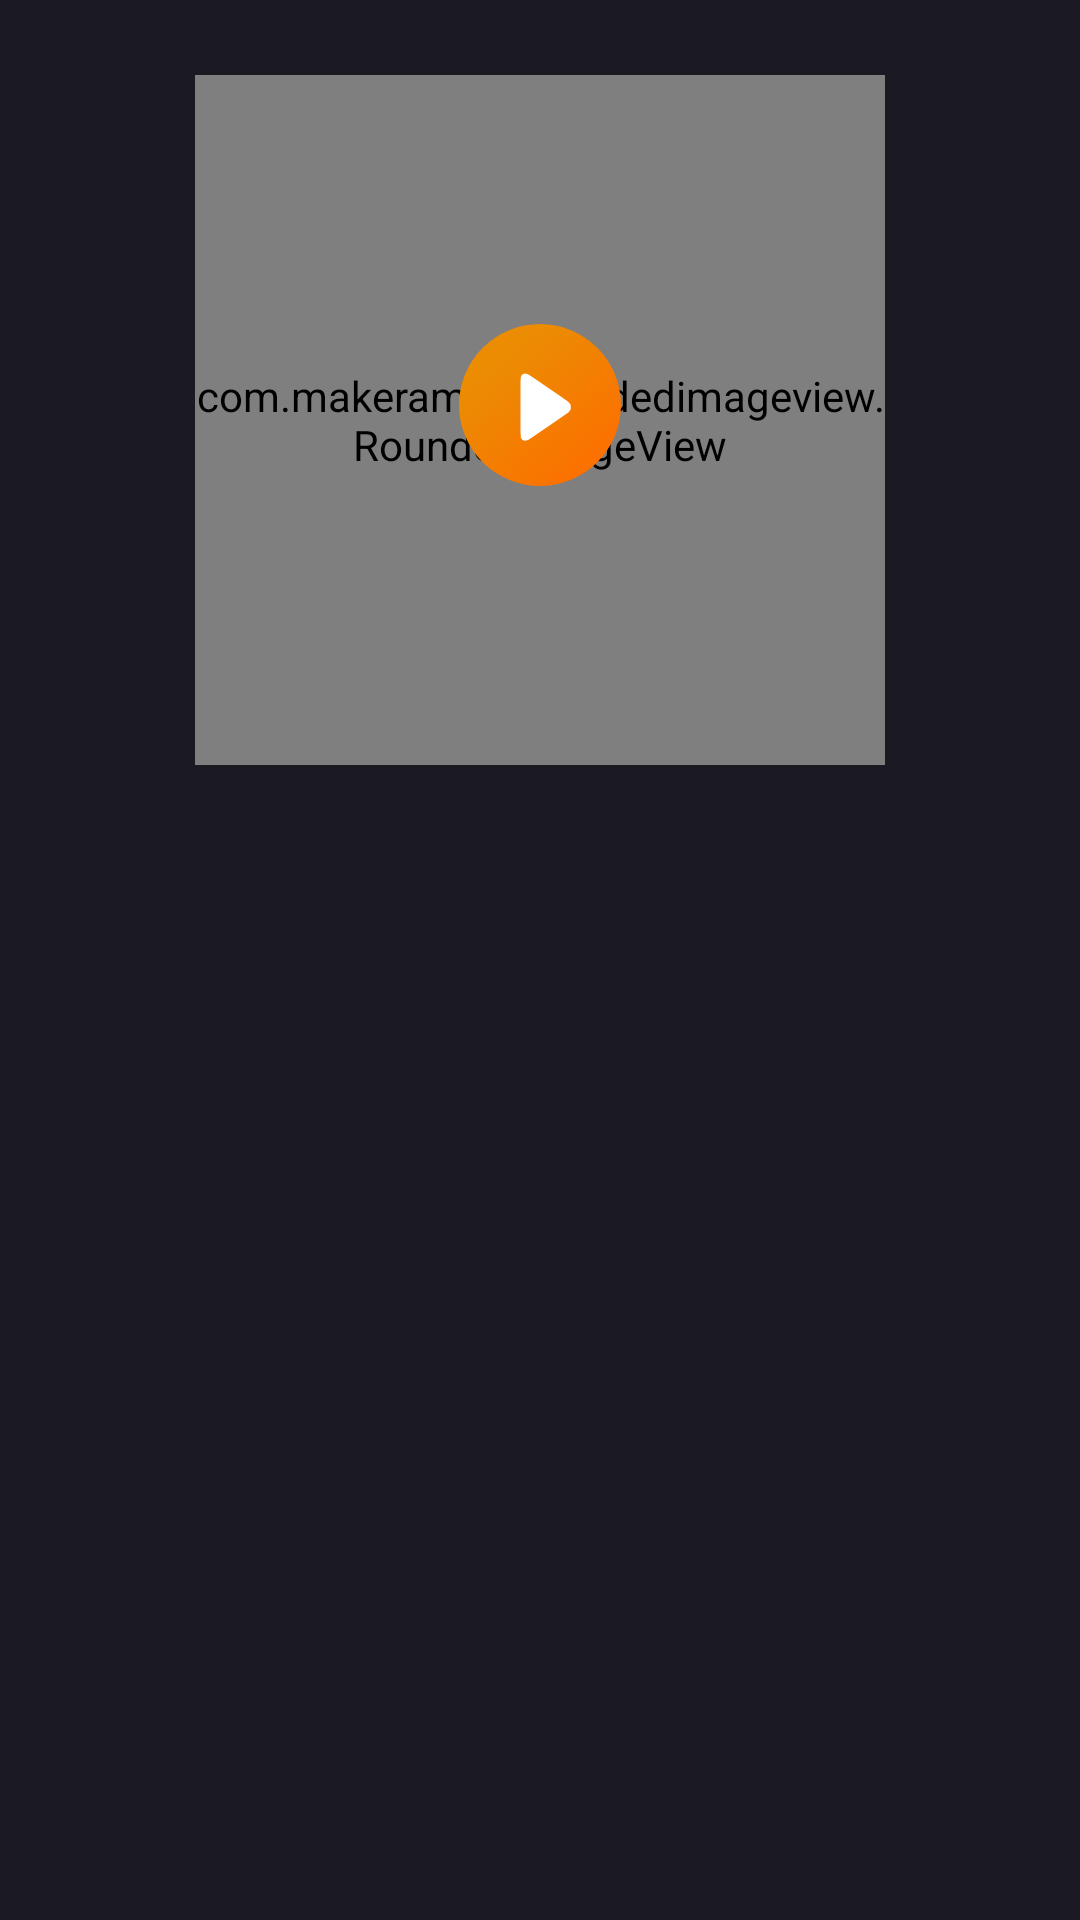

Icons on this 1080x1920 Android screen, each with the point to tap as point (x, y):
play: point (540, 405)
